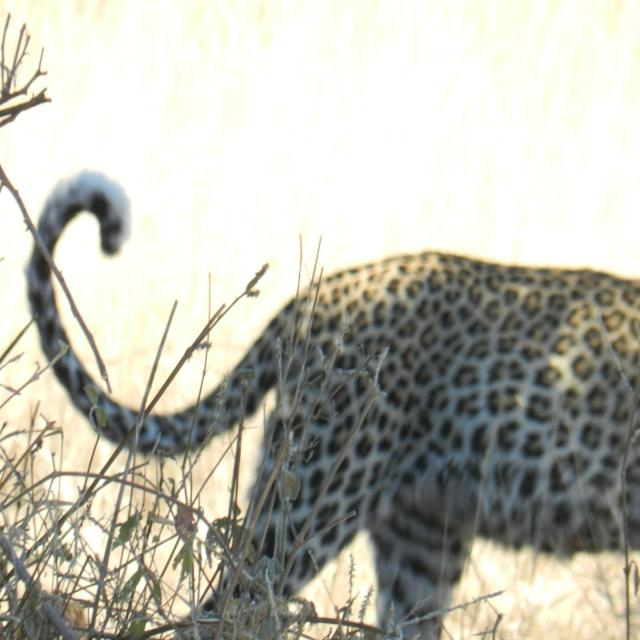Leopard: (38, 207, 635, 640)
